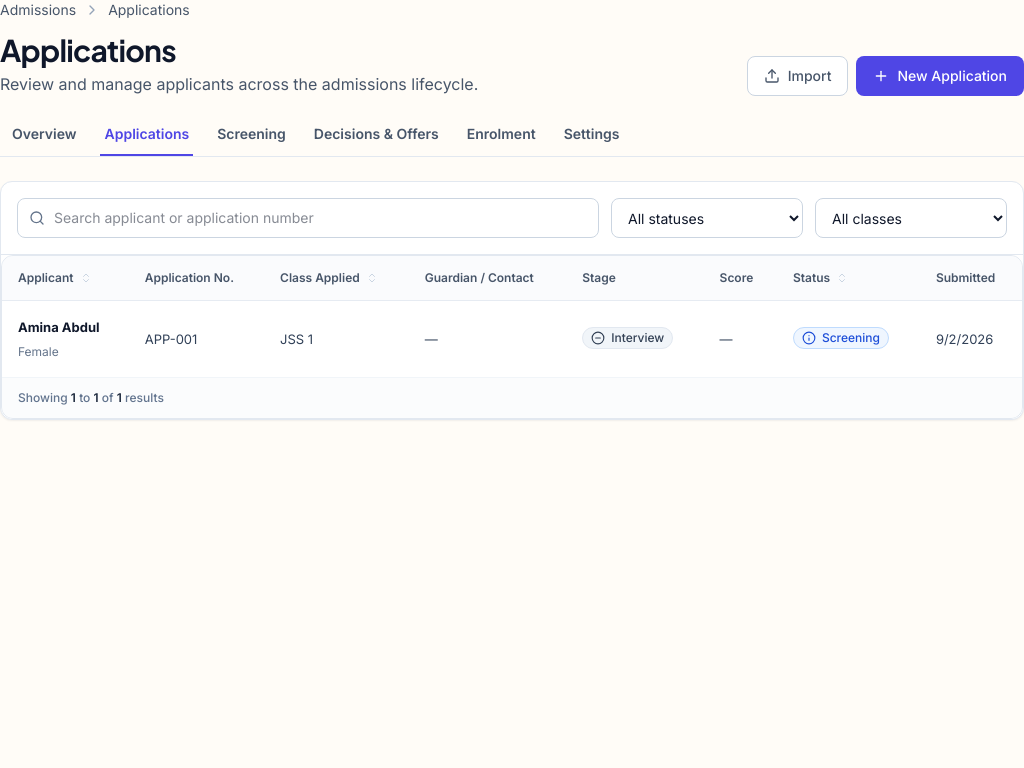
Admissions V2 routes › opens the typed application form for authorized users
Click the button "New Application": (940, 76) x1=856 y1=56 x2=1023 y2=96
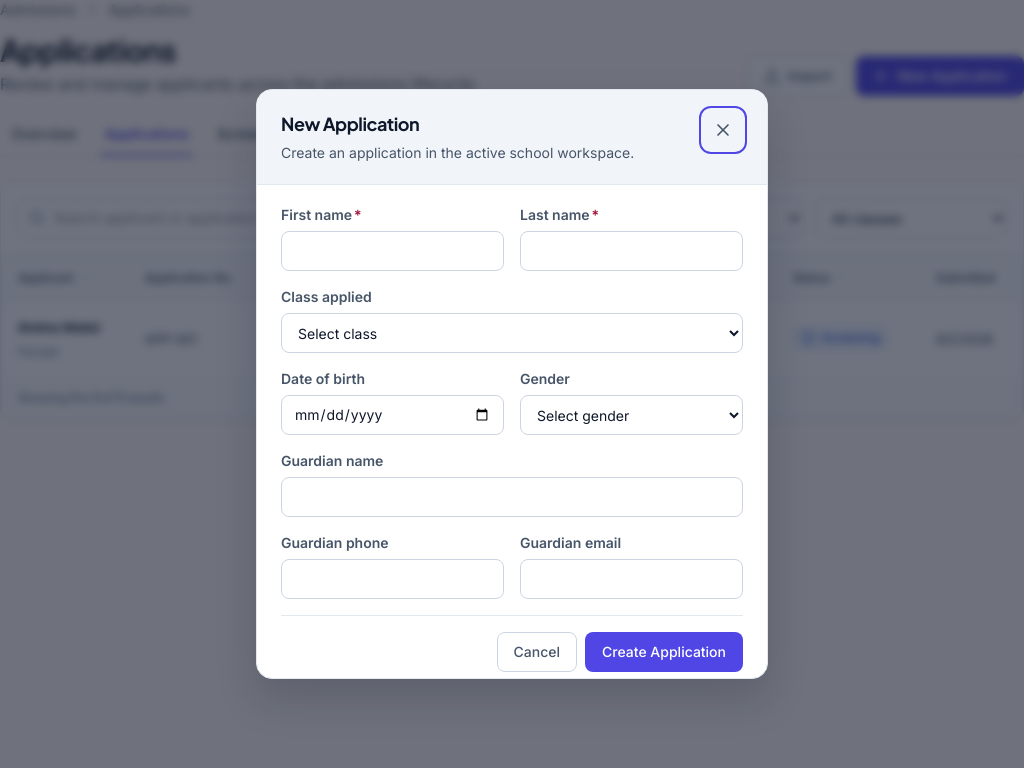
Check: the dialog is shown, box x1=256 y1=89 x2=768 y2=679
Check: the field labelled "First name*" is shown, box x1=281 y1=232 x2=504 y2=272
Check: the field labelled "Guardian name" is shown, box x1=281 y1=478 x2=743 y2=518
